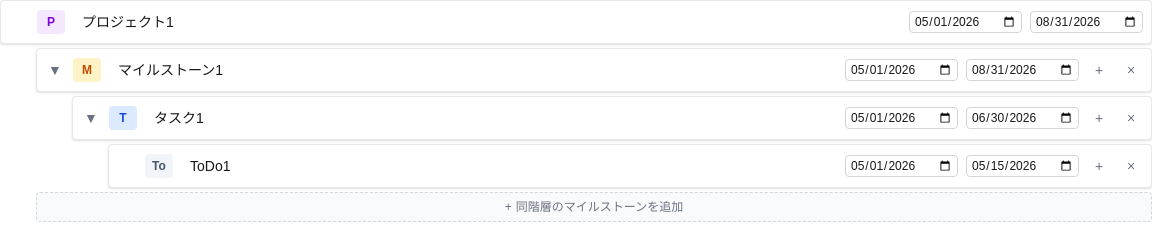
Test: ManagementTree — Milestone 折り畳み › 折り畳んだ後の「展開する」ボタンクリックで配下が再表示される
Note: 折り畳む（Milestone の最初のトグル）
Step 1. Click the button named "折り畳む" → (55, 70), box [45,60,65,80]
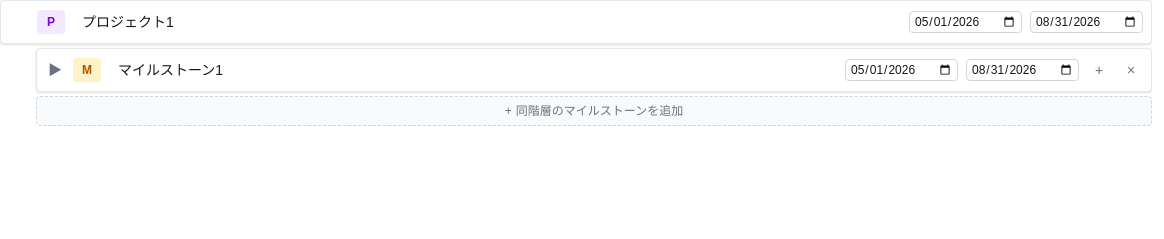
Expected: the field showing "タスク1" is not shown
Step 2. Click the button named "展開する" → (55, 70), box [45,60,65,80]
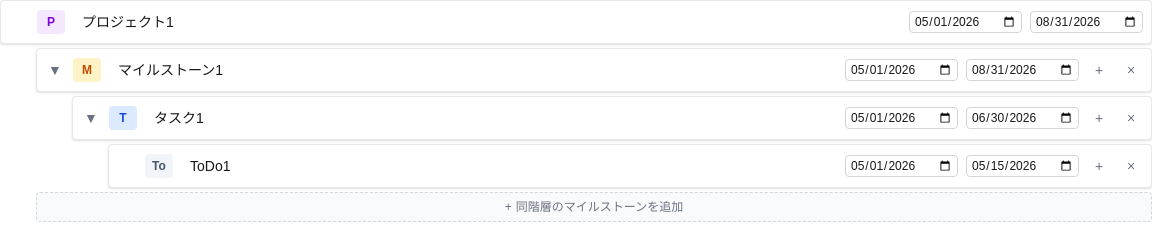
Now the 3rd field showing "タスク1" is shown, box [145,103,837,133]
Now the field showing "ToDo1" next to "To" is shown, box [181,151,837,181]
